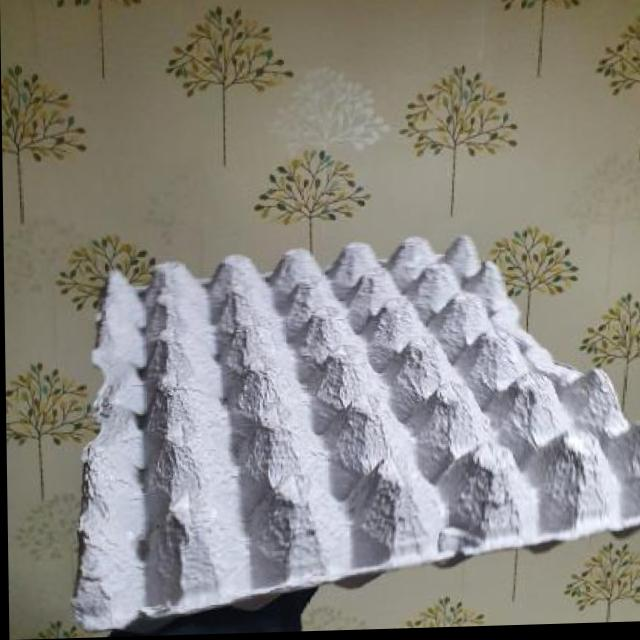box: (57, 207, 640, 639)
